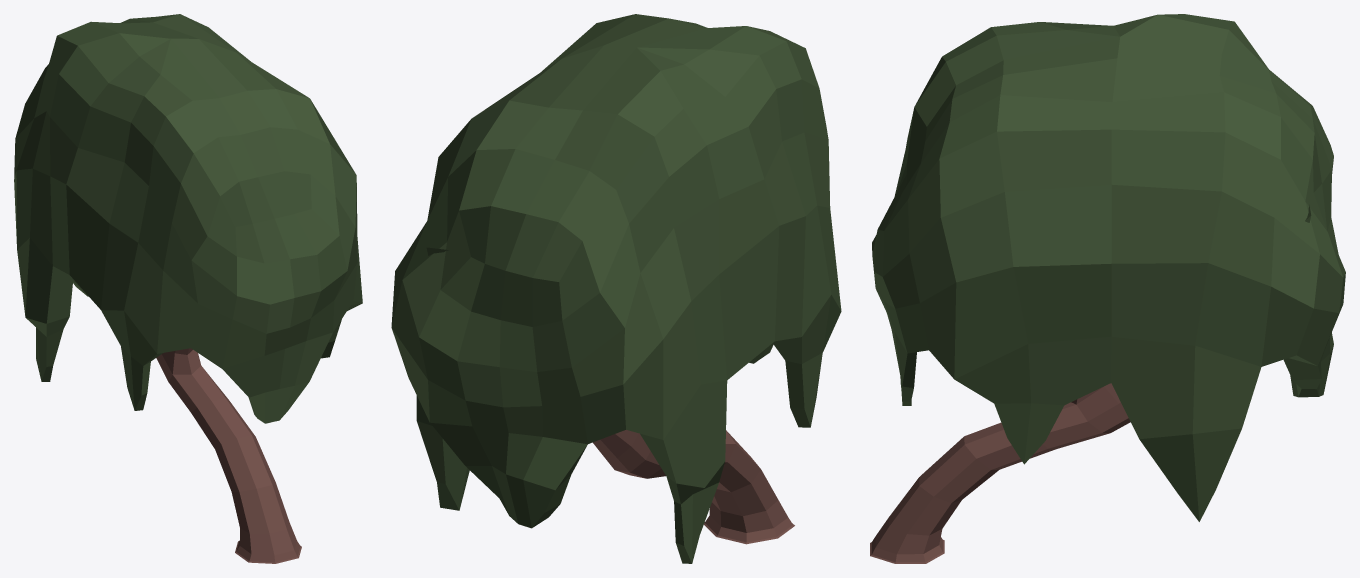
Rendered from Willow_3.glb.
The picture shows the model from 3 angles, left to right: view 1: azimuth 30°, elevation 25°; view 2: azimuth 150°, elevation 25°; view 3: azimuth 270°, elevation 25°; orthographic projection. The views are drawn at different scales.
Parts seen in each view (by area): view 1: Willow_3; view 2: Willow_3; view 3: Willow_3.
Part boxes in pixels (x1,y1,x2,y2): Willow_3: (14,14,362,563); Willow_3: (391,14,841,563); Willow_3: (870,14,1345,563).
Bounding box in the file's own units: 1.32 × 2.35 × 1.98.
